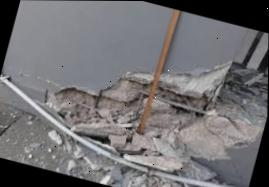spalling: (45, 61, 231, 135)
